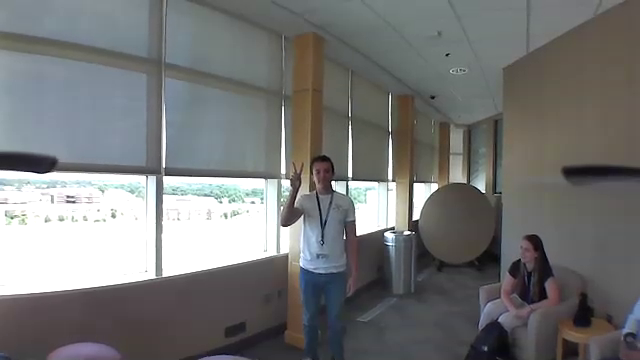peace: (287, 160, 314, 200)
